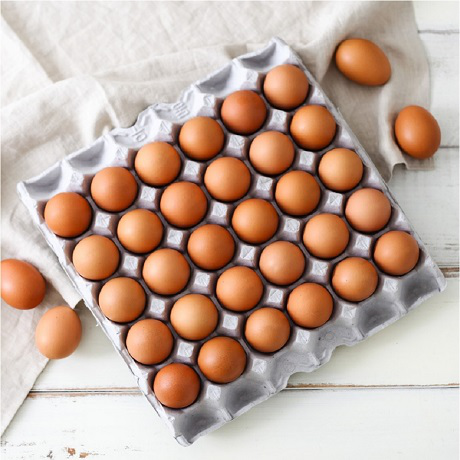egg: (42, 62, 418, 409), (332, 35, 396, 88), (394, 102, 442, 157), (36, 307, 82, 359), (1, 256, 46, 308)
